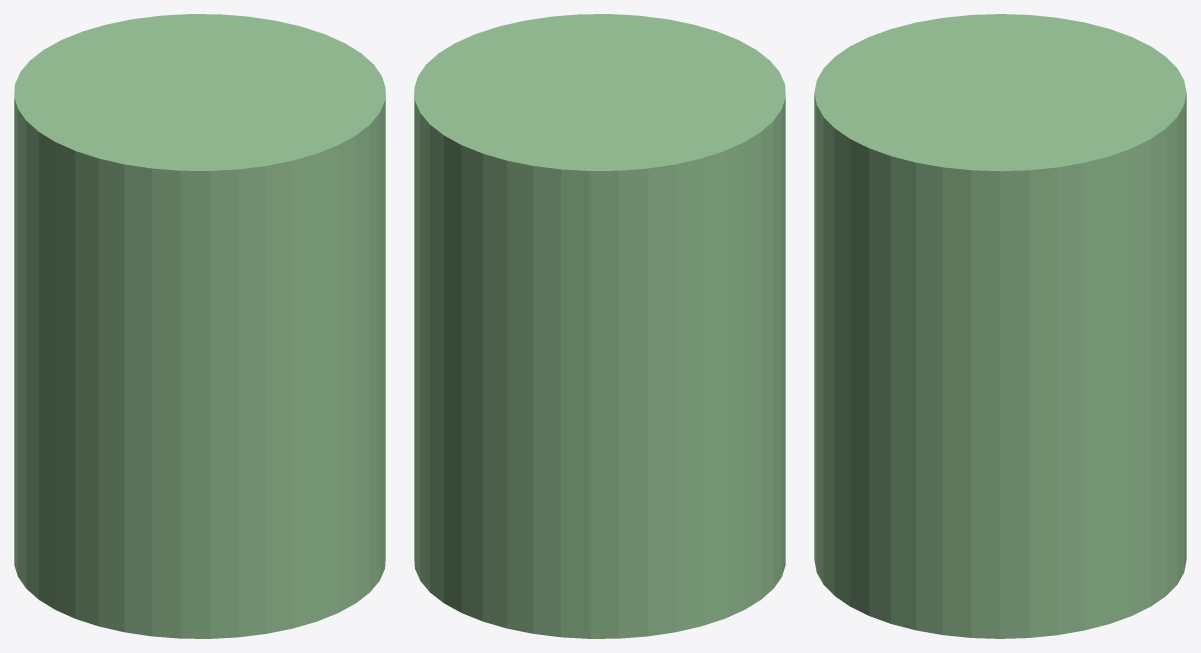
File: rec_glass_jar_0003.glb
3 renders of one model, left to right at view 1: azimuth 30°, elevation 25°; view 2: azimuth 150°, elevation 25°; view 3: azimuth 270°, elevation 25°, orthographic.
Parts seen in each view (by area): view 1: z-up-to-y-up; view 2: z-up-to-y-up; view 3: z-up-to-y-up.
Boxes of the visible parts, x1,y1,x2,y2 form: z-up-to-y-up: (14, 14, 385, 638); z-up-to-y-up: (414, 14, 785, 638); z-up-to-y-up: (814, 14, 1186, 638).
Size of the model in its own units: 0.0639 by 0.0886 by 0.0639.
